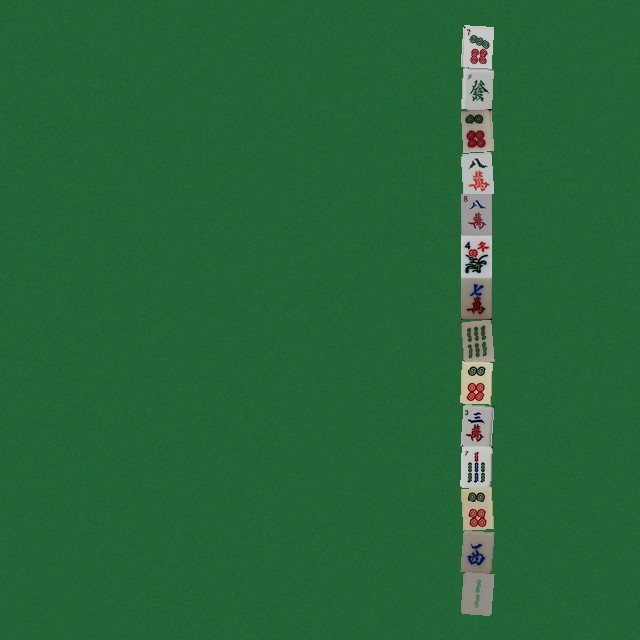tile: (460, 25, 491, 67), (460, 67, 491, 109), (460, 109, 491, 151), (460, 151, 491, 193), (460, 193, 491, 235), (460, 235, 491, 277), (460, 277, 491, 319), (460, 319, 491, 361), (460, 361, 491, 403), (460, 403, 491, 445), (460, 445, 491, 487), (460, 487, 491, 529), (460, 529, 491, 571), (460, 571, 491, 613)
